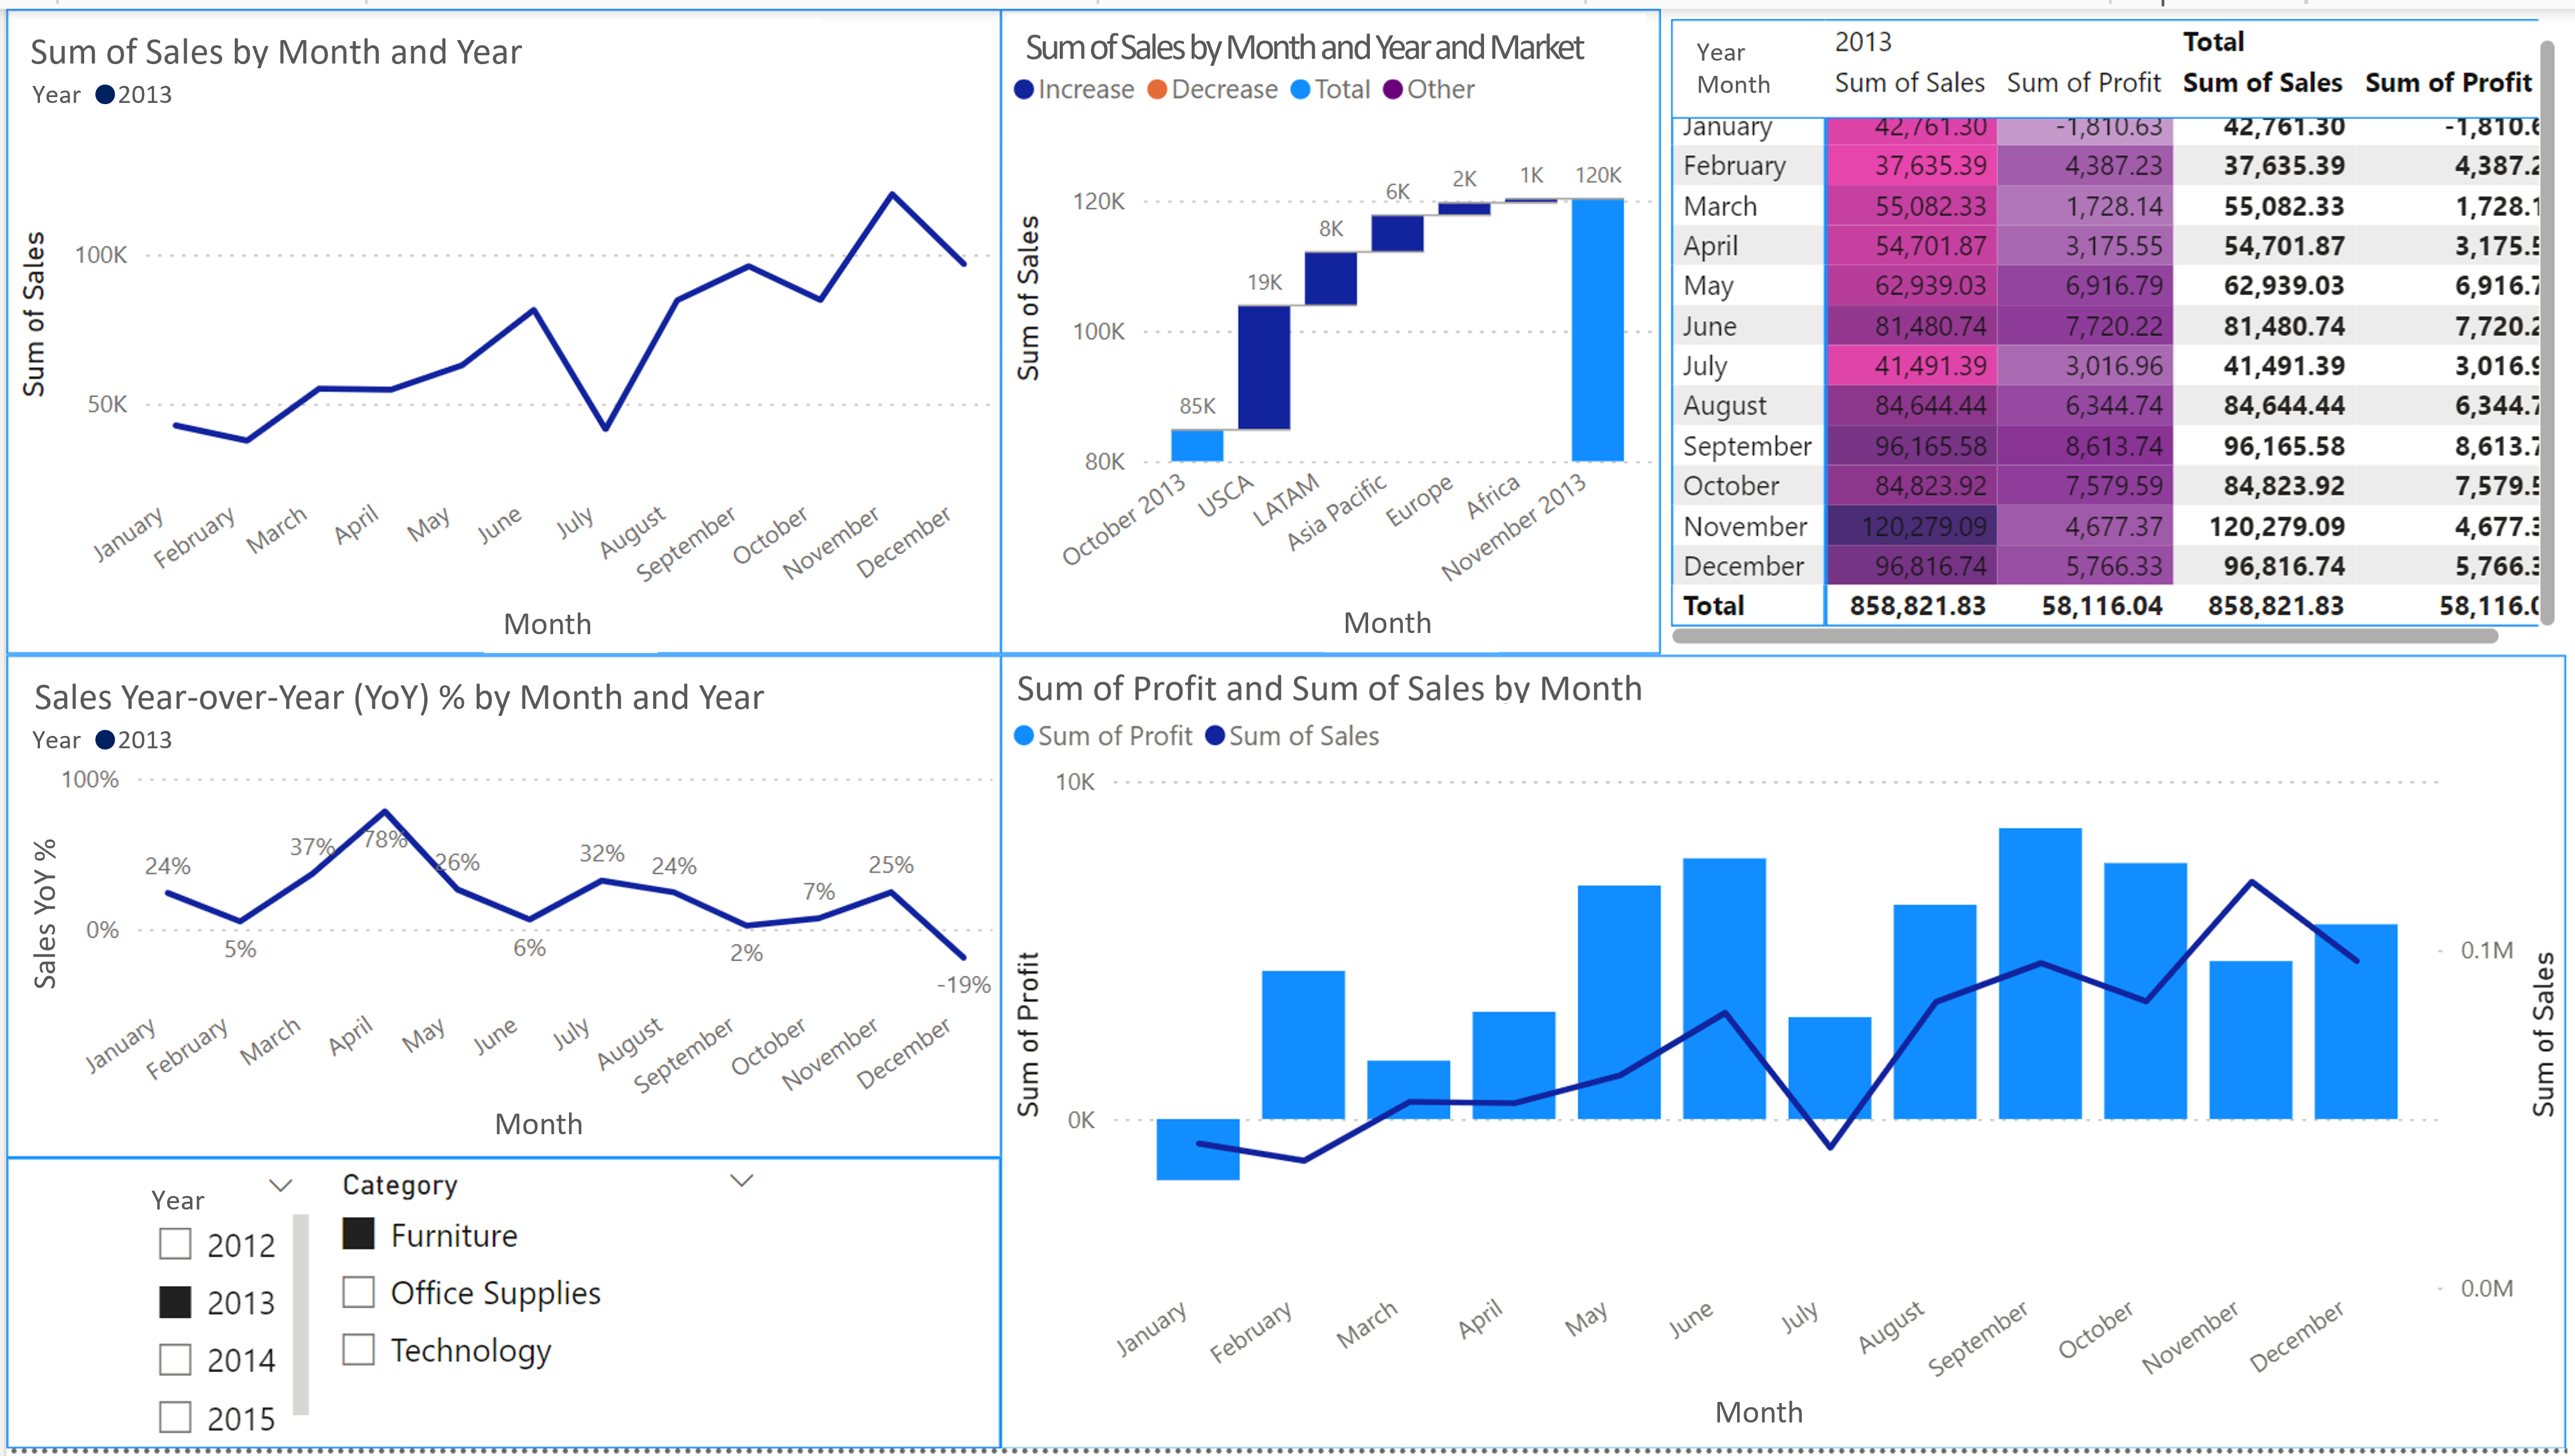

What the dashboard file says about the page in this screenshot:
{"tool":"powerbi","page":{"name":"第 2 頁","canvas":[1280,720],"ordinal":1},"visuals":[{"type":"lineChart","fields":{"Y":["Sum(Orders.Sales)"],"Category":["Orders.Order Date.變化.日期階層.季","Orders.Order Date.變化.日期階層.月"],"Series":["Orders.Order Date.變化.日期階層.年"]},"box":[0,0,497.1,322.9],"z":0},{"type":"waterfallChart","fields":{"Category":["Orders.Order Date.變化.日期階層.月","Orders.Order Date.變化.日期階層.年"],"Breakdown":["Orders.Market"],"Y":["Sum(Orders.Sales)"]},"box":[497.1,0,330,322.9],"z":1000},{"type":"lineChart","fields":{"Category":["Orders.Order Date.變化.日期階層.季","Orders.Order Date.變化.日期階層.月"],"Series":["Orders.Order Date.變化.日期階層.年"],"Y":["Orders.Sales 與去年相比 %"]},"box":[0,322.9,497.1,251.4],"z":2000},{"type":"pivotTable","fields":{"Values":["Sum(Orders.Sales)","Sum(Orders.Profit)"],"Rows":["Orders.Order Date.變化.日期階層.月"],"Columns":["Orders.Order Date.變化.日期階層.年"]},"box":[826.6,0,452.7,323.1],"z":3000},{"type":"slicer","fields":{"Values":["Orders.Category"]},"box":[155.7,574.3,231.4,124.3],"z":4000},{"type":"lineClusteredColumnComboChart","fields":{"Category":["Orders.Order Date.變化.日期階層.月"],"Y":["Sum(Orders.Profit)"],"Y2":["Sum(Orders.Sales)"]},"box":[497.1,322.9,782.9,397.1],"z":5000},{"type":"slicer","fields":{"Values":["Orders.Order Date.變化.日期階層.年"]},"box":[62.9,574.3,92.9,145.7],"z":6000},{"type":"shape","box":[0,574.3,497.1,145.7],"z":7000}]}

Visuals, with their boxes in screenshot pixels (x1, y1, x2, y2), scaled from the page's 1280x720 canvas onto the 2575x1456 screenshot:
lineChart - Sum(Orders.Sales) x Orders.Order Date.變化.日期階層.季: x1=0, y1=0, x2=1000, y2=653
waterfallChart - Orders.Order Date.變化.日期階層.月 x Orders.Order Date.變化.日期階層.年: x1=1000, y1=0, x2=1664, y2=653
lineChart - Orders.Order Date.變化.日期階層.季 x Orders.Order Date.變化.日期階層.月: x1=0, y1=653, x2=1000, y2=1161
pivotTable - Sum(Orders.Sales) x Sum(Orders.Profit): x1=1663, y1=0, x2=2574, y2=654
slicer - Orders.Category: x1=313, y1=1161, x2=779, y2=1412
lineClusteredColumnComboChart - Orders.Order Date.變化.日期階層.月 x Sum(Orders.Profit): x1=1000, y1=653, x2=2574, y2=1455
slicer - Orders.Order Date.變化.日期階層.年: x1=127, y1=1161, x2=314, y2=1455
shape: x1=0, y1=1161, x2=1000, y2=1455
